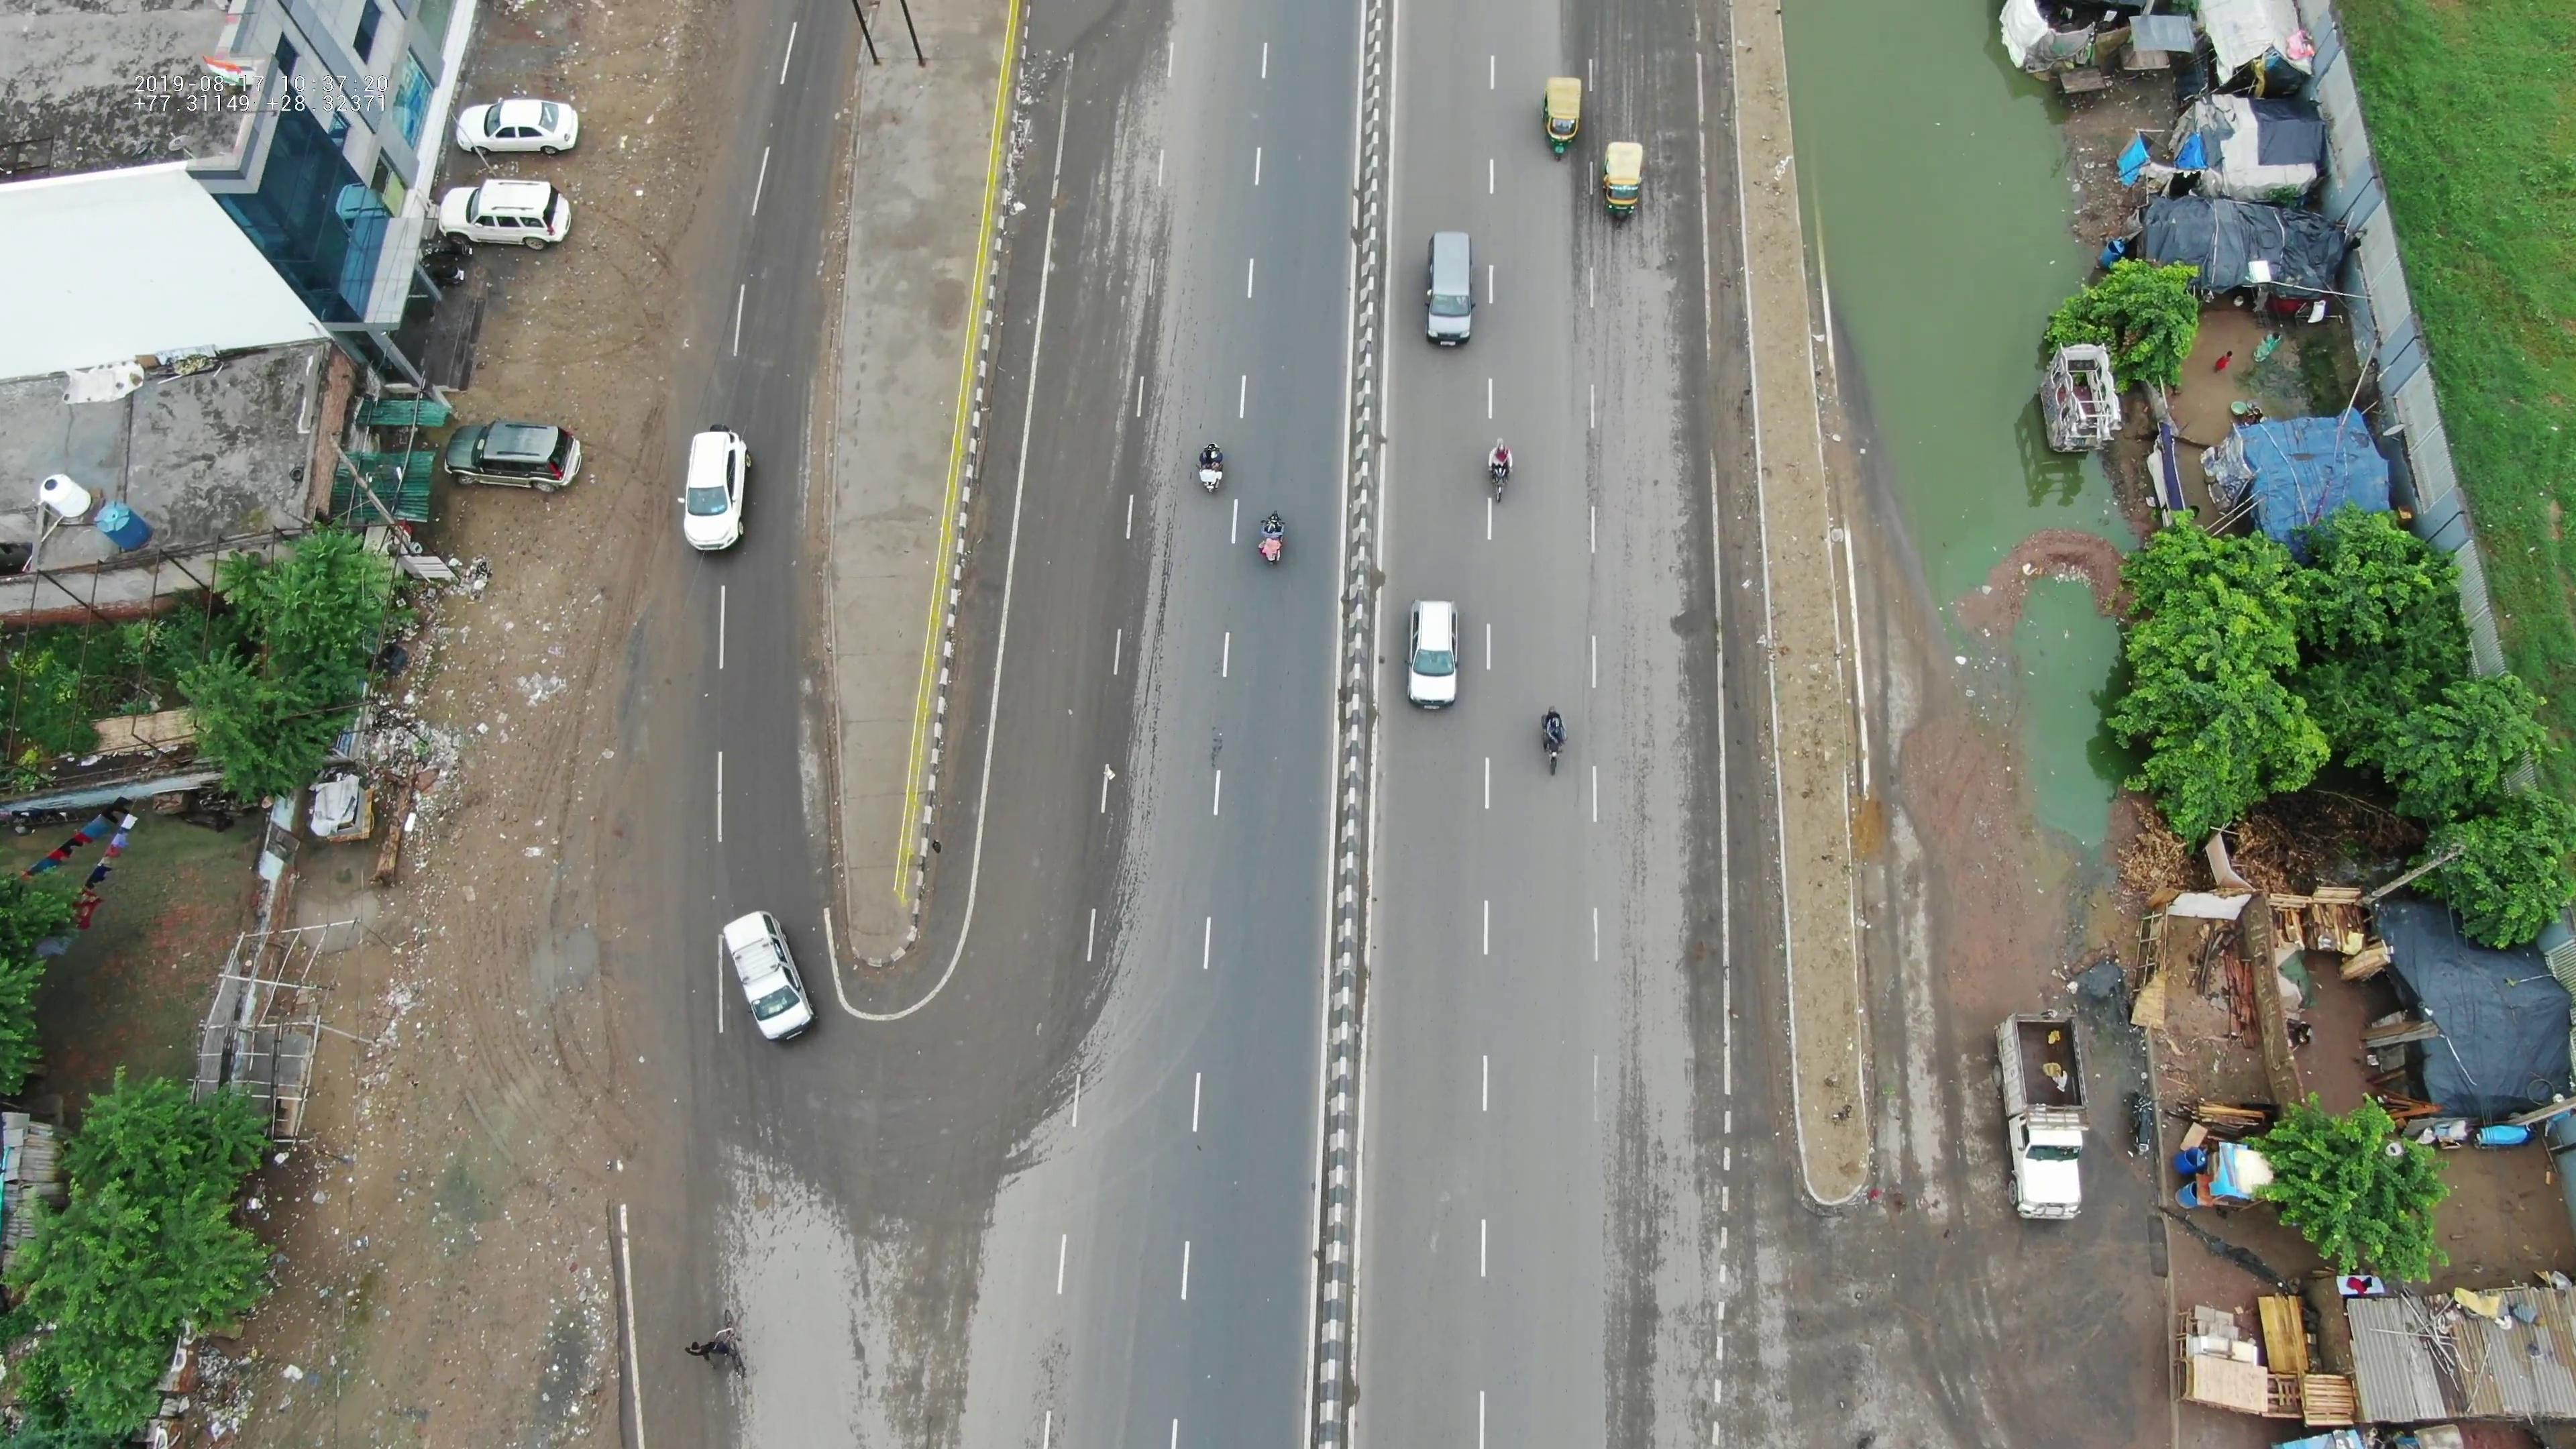Ravelling: (1129, 543, 1192, 856)
Waterlogging: (1757, 7, 2132, 598), (1990, 548, 2128, 837)
